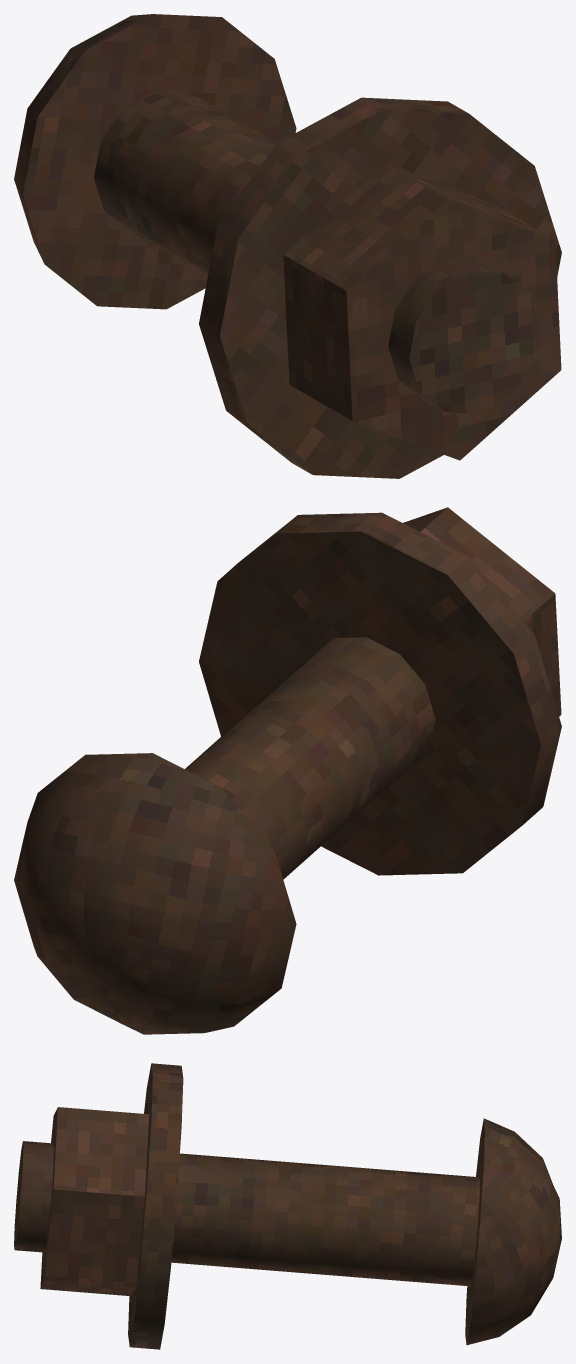
File: bolt_mx_1.glb
3 views of the same model, one above another, from view 1: azimuth 30°, elevation 25°; view 2: azimuth 150°, elevation 25°; view 3: azimuth 270°, elevation 25° (orthographic). The views are drawn at different scales.
Parts seen in each view (by area): view 1: bolt_mx_1; view 2: bolt_mx_1; view 3: bolt_mx_1.
Boxes of the visible parts, bbox=[...] form: bolt_mx_1: bbox=[14, 14, 561, 478]; bolt_mx_1: bbox=[14, 507, 561, 1034]; bolt_mx_1: bbox=[14, 1063, 561, 1349].
Bounding box in the file's own units: 0.0936 × 0.0941 × 0.1794.
Materials: 1 (1 with a texture image).
